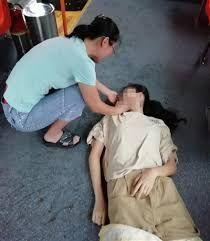Fall-Detected: (73, 74, 203, 241)
